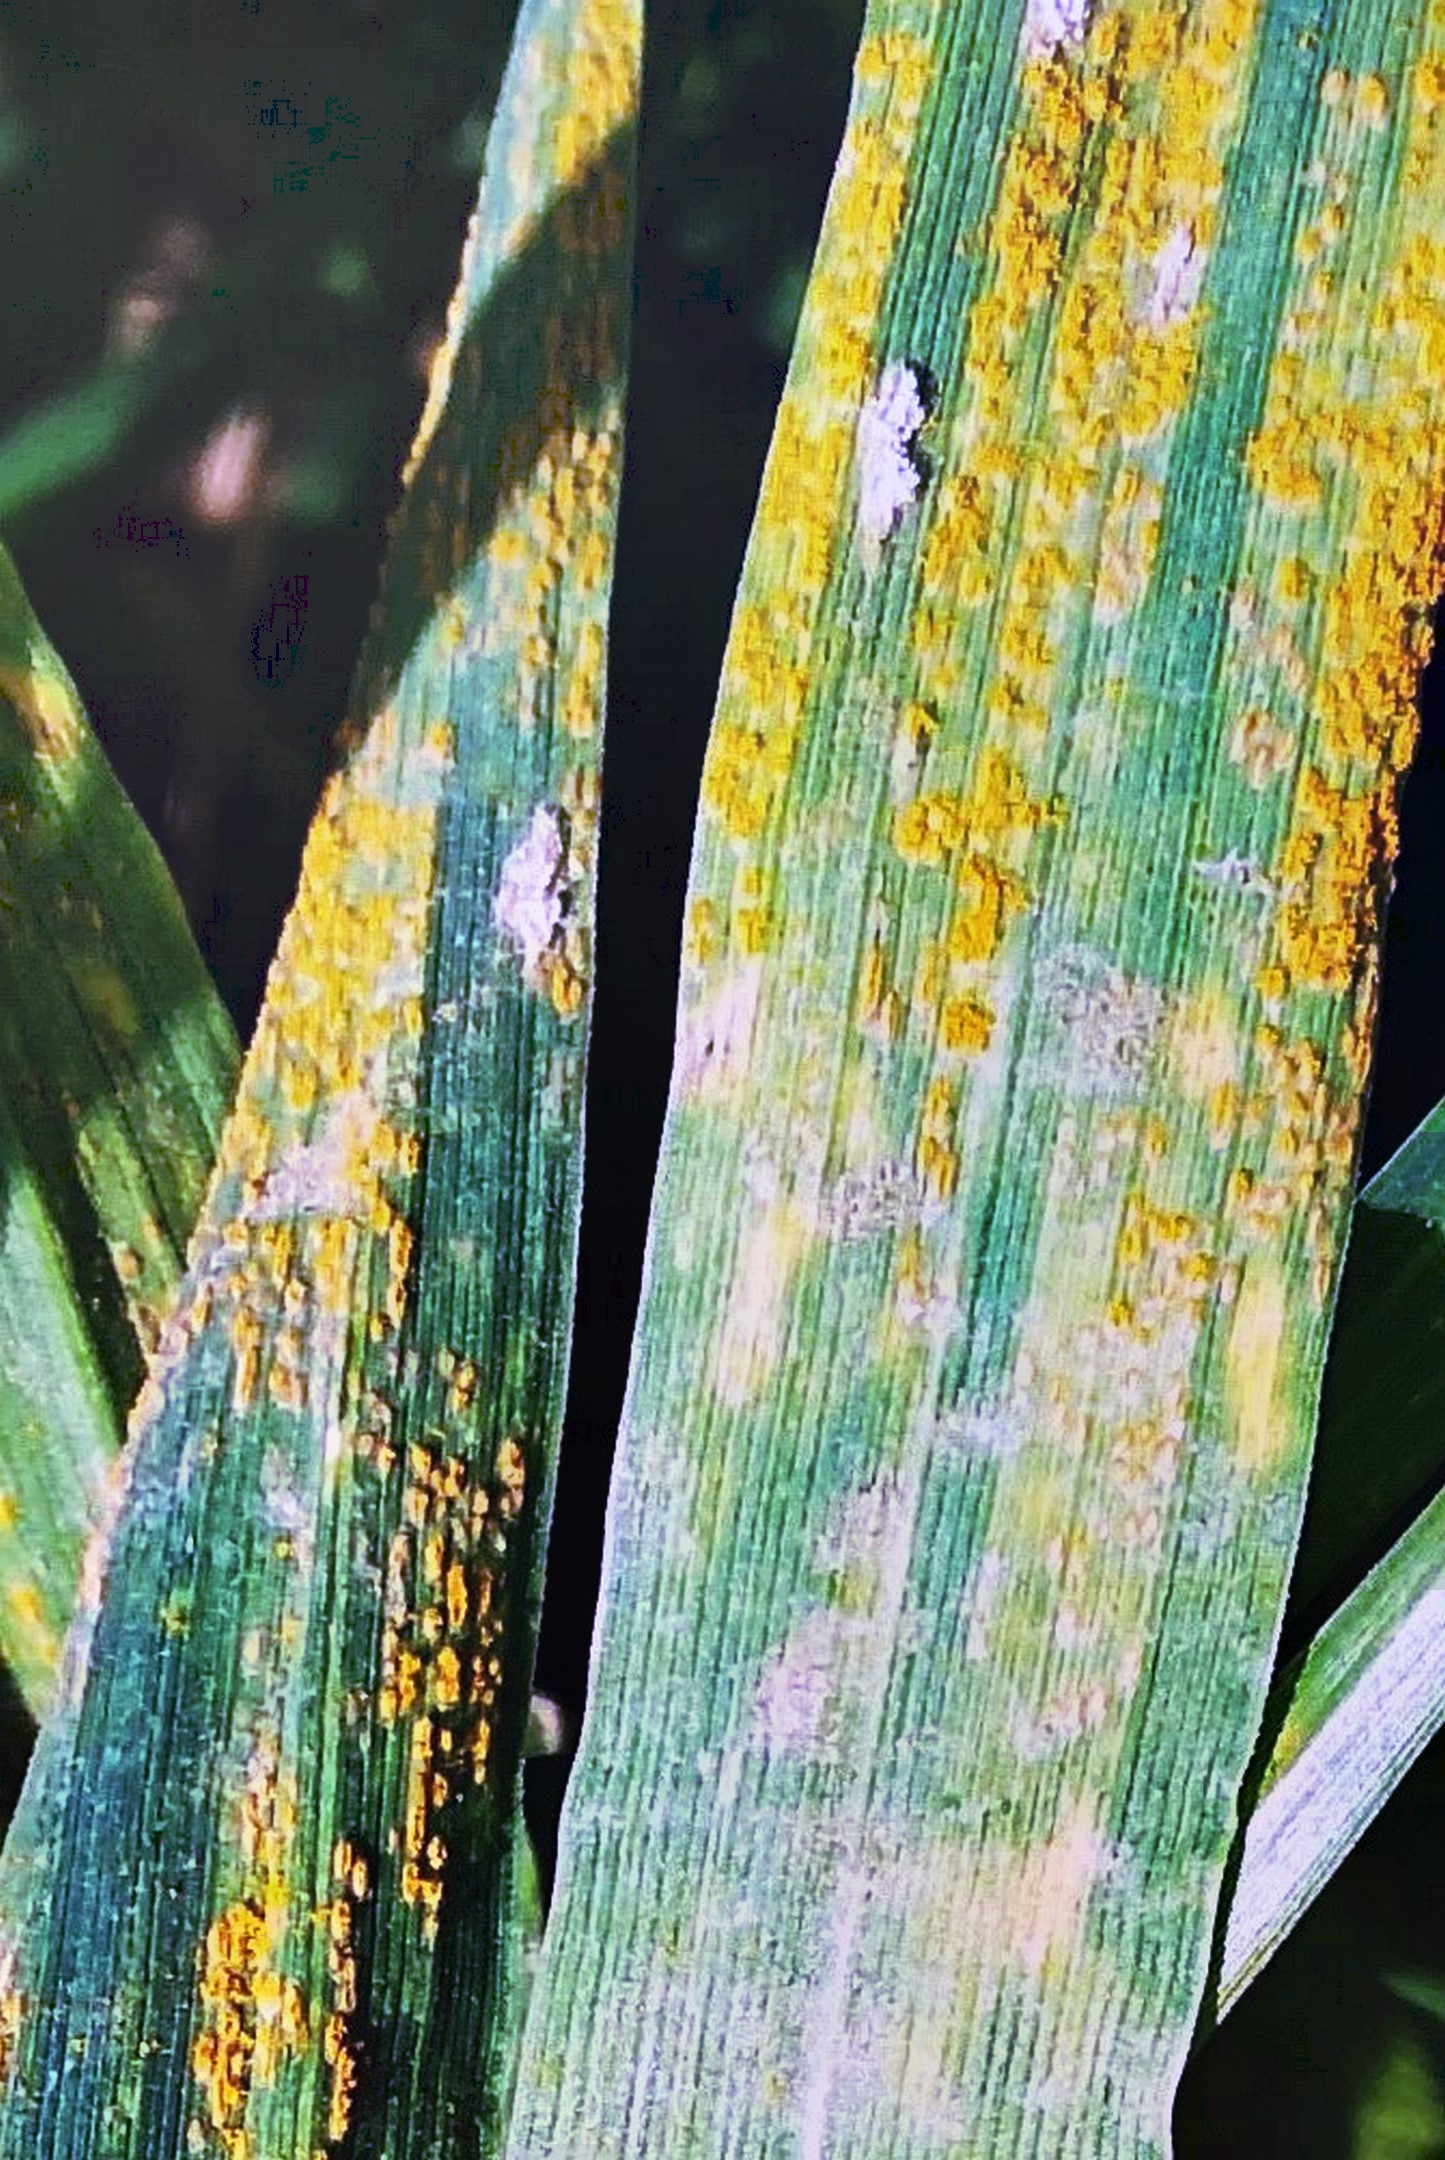Leaf Rust: (677, 40, 1445, 1238), (56, 722, 526, 2091)
